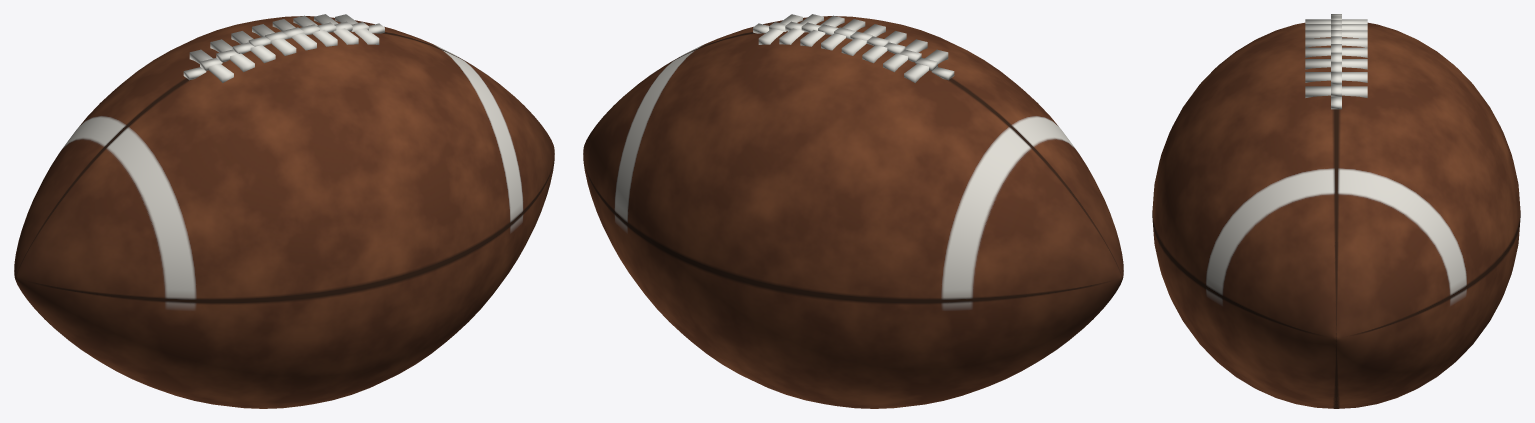
The model's file is NH_Football.fbx.
The picture shows the model from 3 angles, left to right: view 1: azimuth 30°, elevation 25°; view 2: azimuth 150°, elevation 25°; view 3: azimuth 270°, elevation 25°; orthographic projection. The views are drawn at different scales.
Parts seen in each view (by area): view 1: NH_Football; view 2: NH_Football; view 3: NH_Football.
Part boxes in pixels (x1,y1,x2,y2): NH_Football: [14, 14, 554, 408]; NH_Football: [583, 14, 1123, 408]; NH_Football: [1152, 14, 1520, 408].
Bounding box in the file's own units: 160 × 101 × 100.
